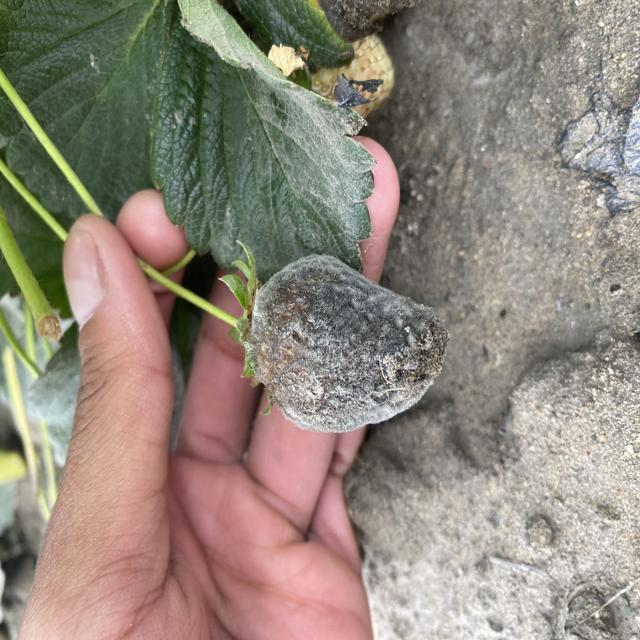Botrytis: (247, 256, 449, 436)
